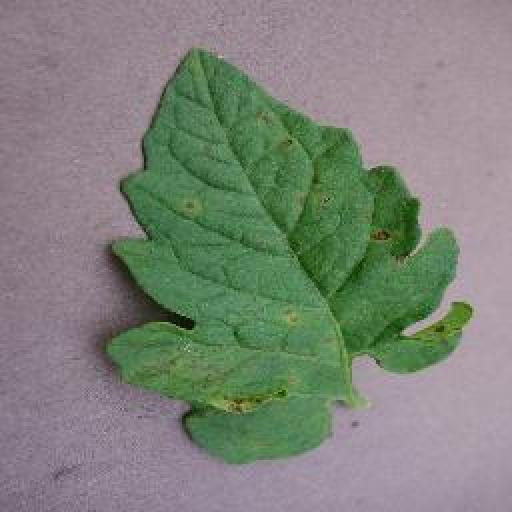disease_tomato: (106, 46, 475, 466)
